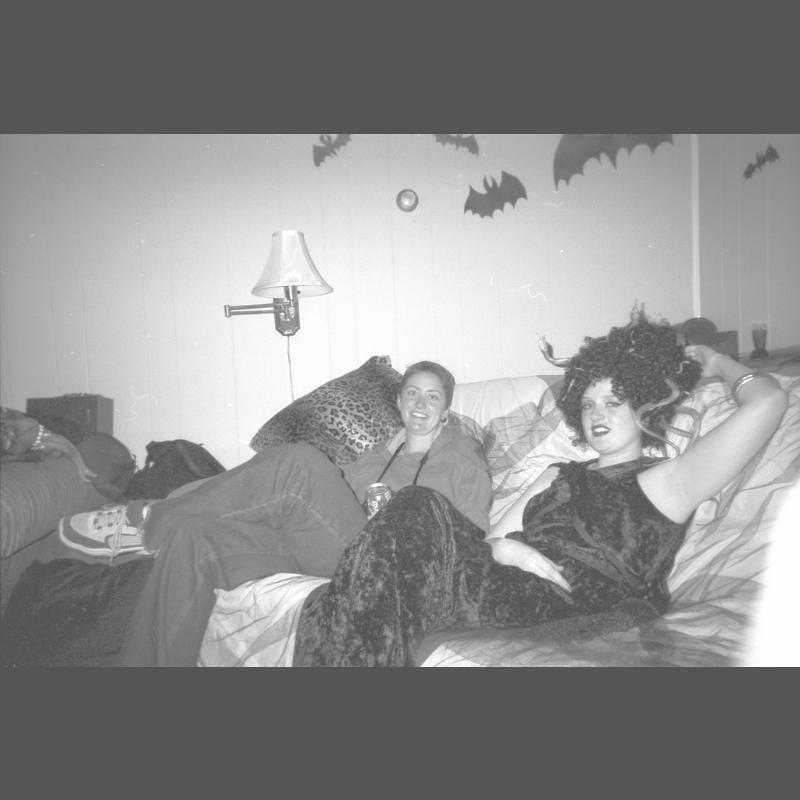pillow: (241, 354, 506, 480)
